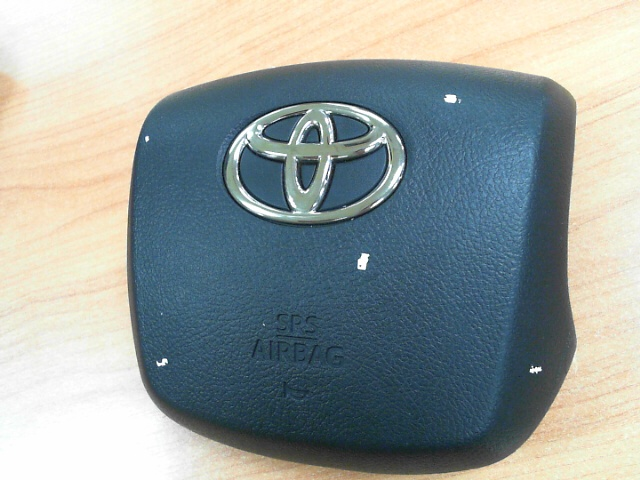Airbag: (357, 253, 369, 271), (443, 95, 461, 104), (529, 365, 543, 375), (156, 358, 168, 367), (144, 136, 149, 144)
